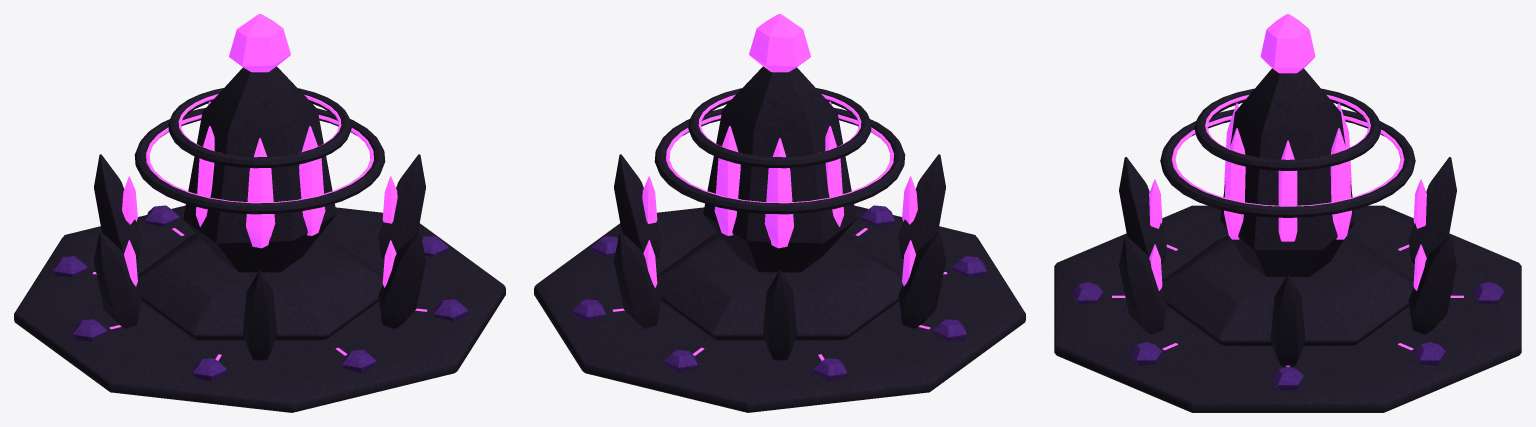
File: conclave_nova_de_cristal.gltf
3 renders of one model, left to right at view 1: azimuth 30°, elevation 25°; view 2: azimuth 150°, elevation 25°; view 3: azimuth 270°, elevation 25°, orthographic.
Visible parts, largest first — view 1: Root.003_Geometry, Rotor_0.002_Geometry; view 2: Root.003_Geometry, Rotor_0.002_Geometry; view 3: Root.003_Geometry, Rotor_0.002_Geometry.
Boxes of the visible parts, box(x1,y1,x2,y2) form: Root.003_Geometry: box(14, 14, 505, 412); Rotor_0.002_Geometry: box(134, 88, 385, 214); Root.003_Geometry: box(534, 14, 1025, 412); Rotor_0.002_Geometry: box(654, 88, 905, 214); Root.003_Geometry: box(1054, 14, 1521, 412); Rotor_0.002_Geometry: box(1160, 88, 1415, 217).
Bounding box in the file's own units: 5.88 × 4.17 × 5.88.
Materials: 3 (2 with a texture image).
